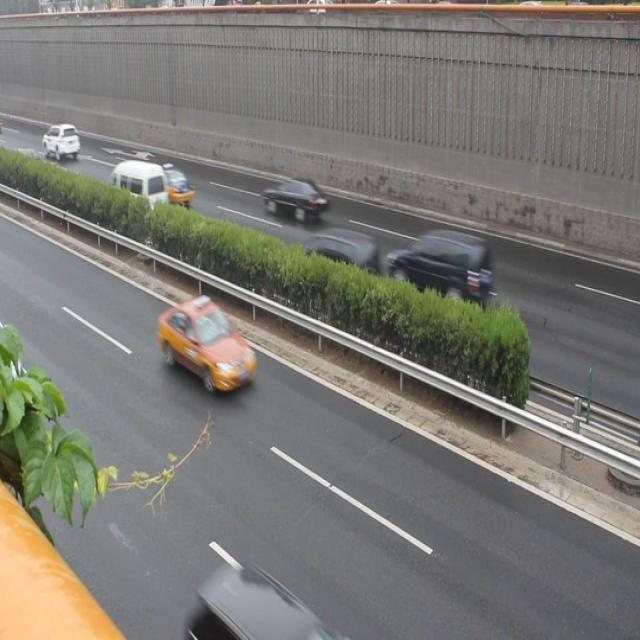car: (184, 565, 337, 640), (158, 294, 256, 392), (305, 230, 383, 290), (260, 173, 327, 223), (156, 156, 200, 208)
truck: (386, 228, 492, 310), (111, 156, 168, 215)
